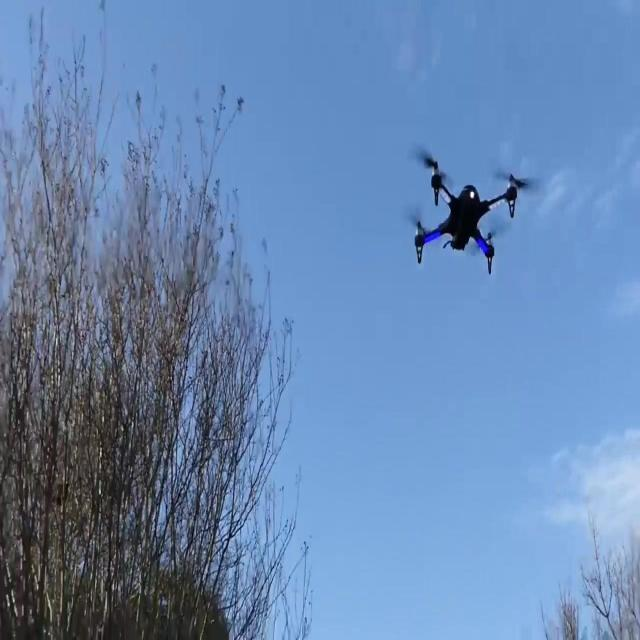drone: (412, 144, 518, 276)
